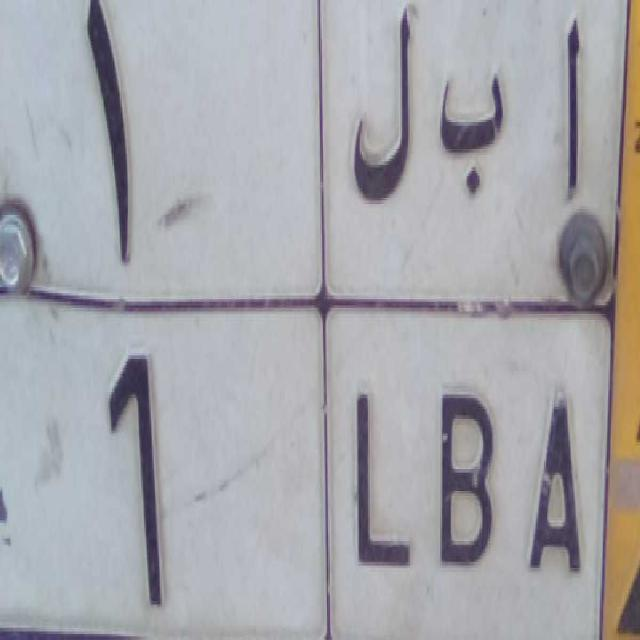license_plate: (34, 297, 602, 640)
